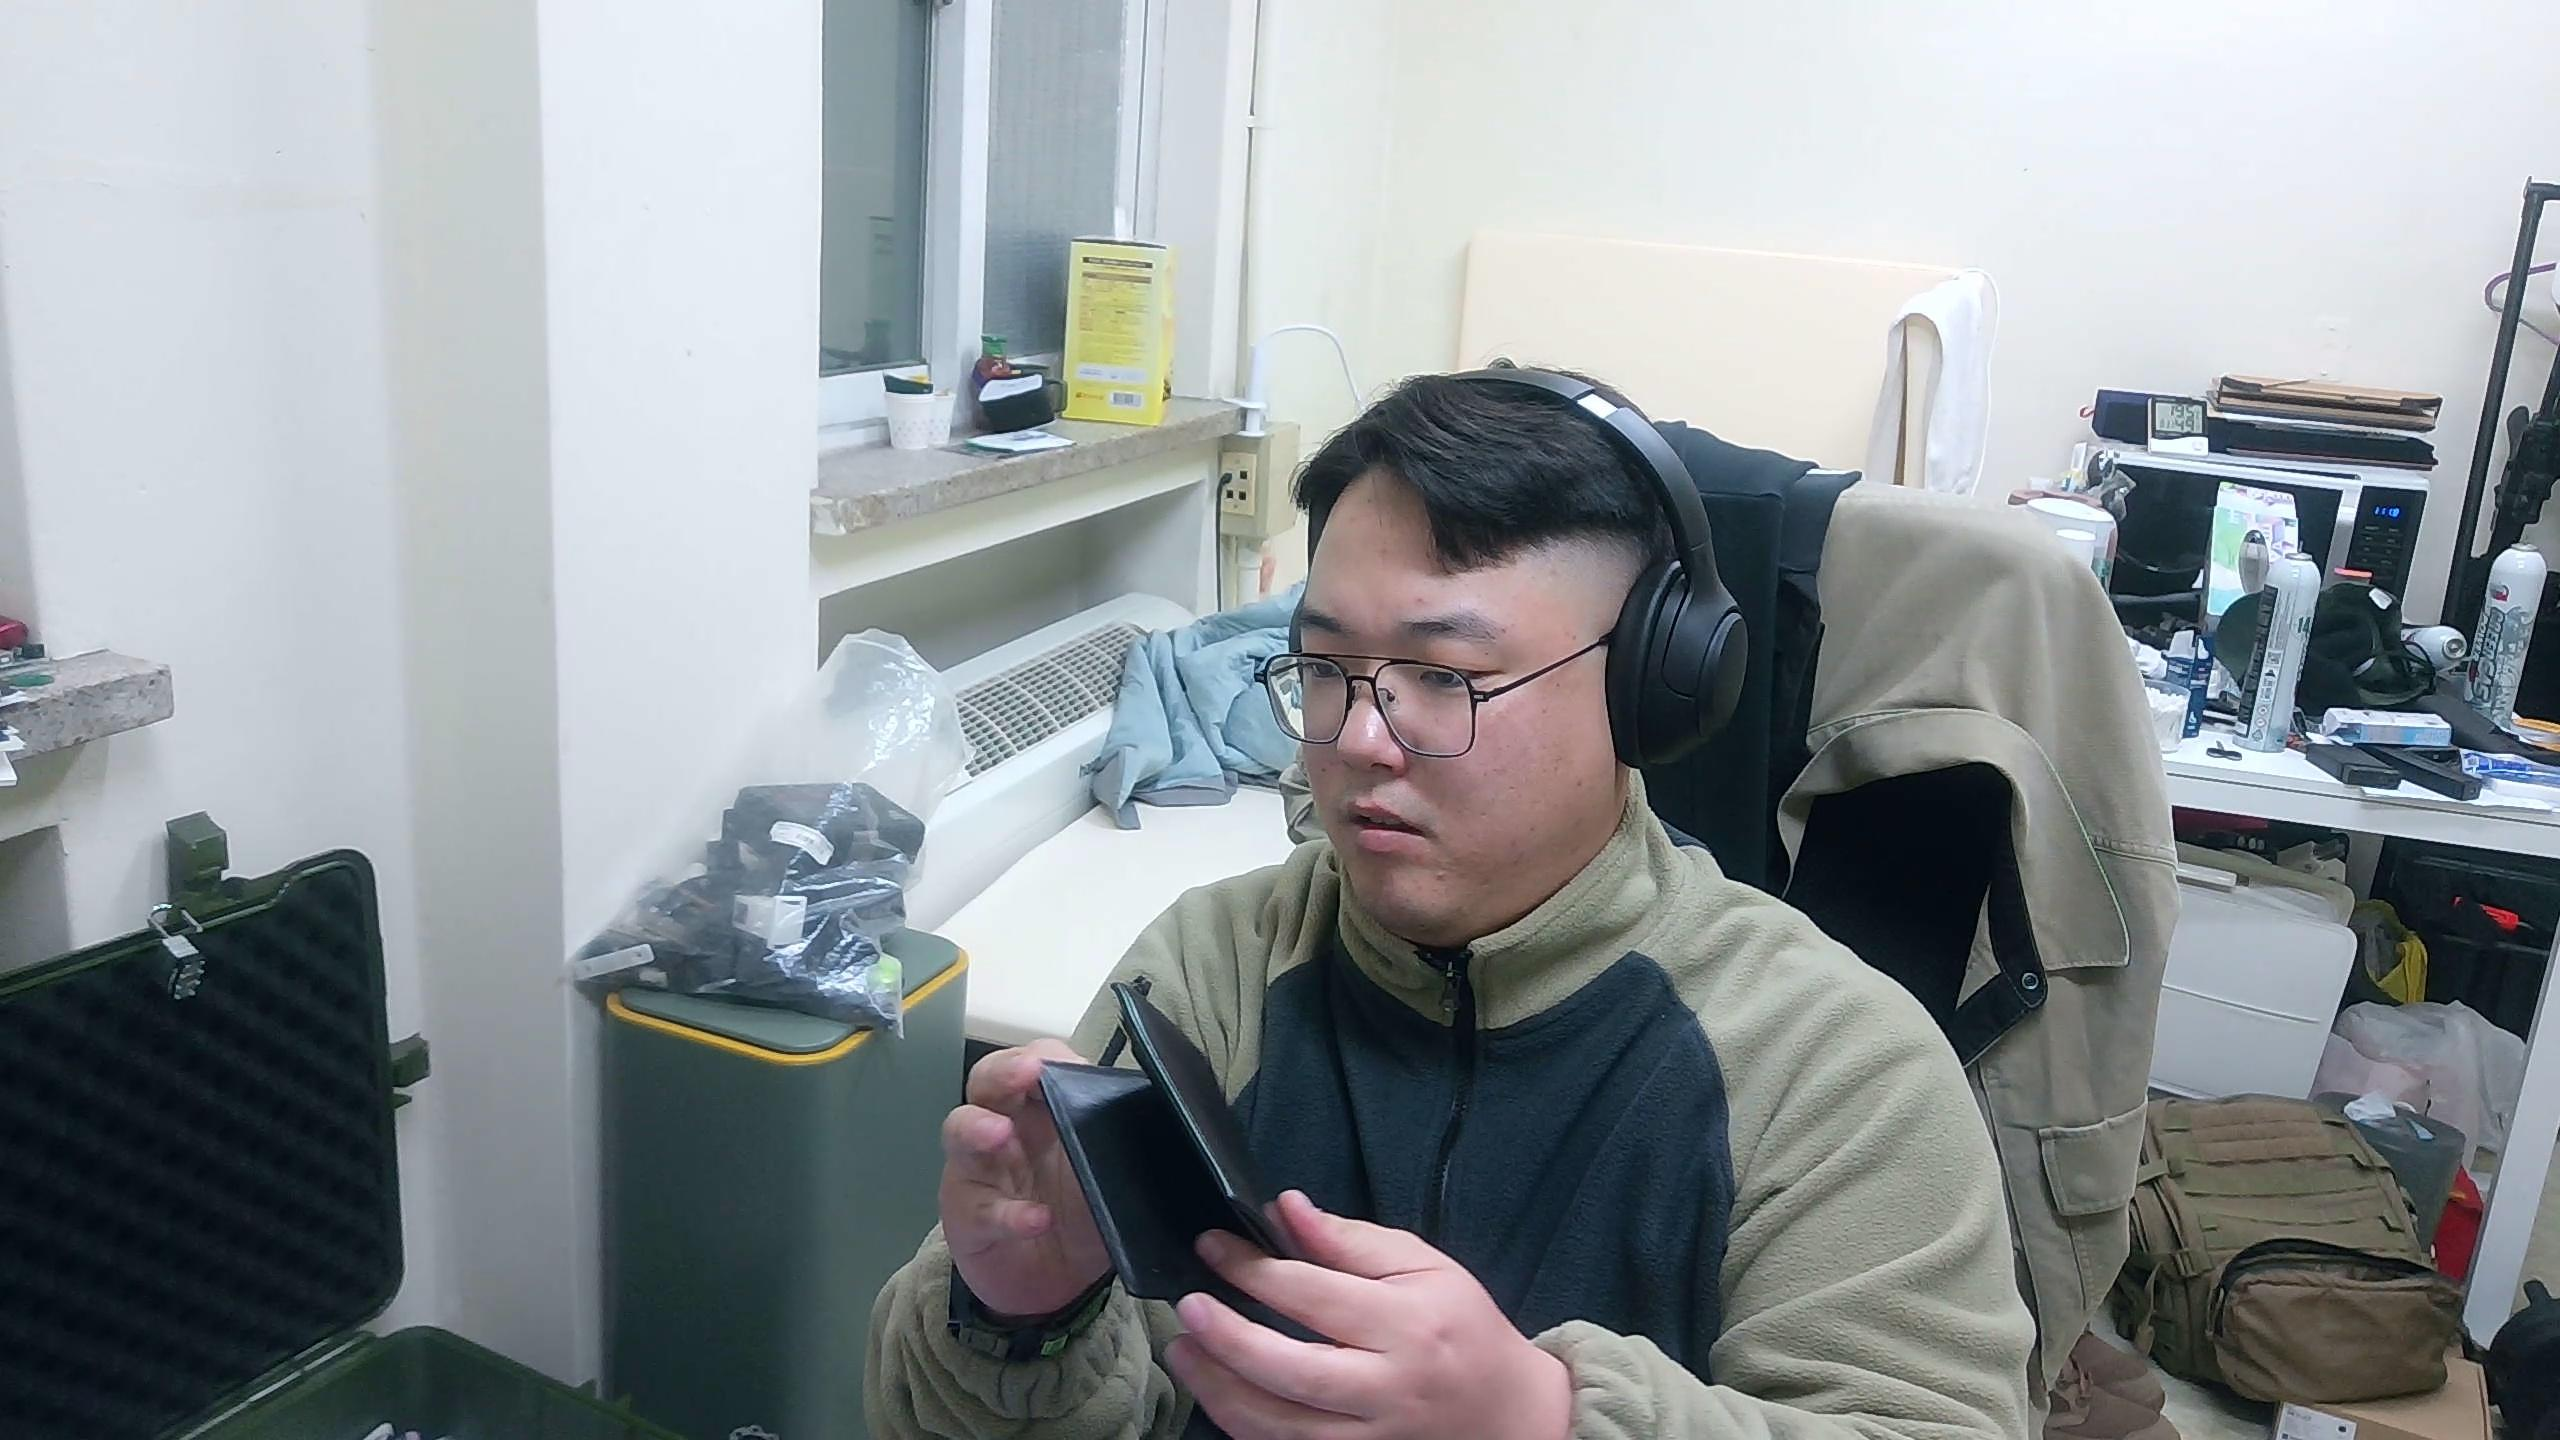Wallet: (1036, 972, 1345, 1350)
